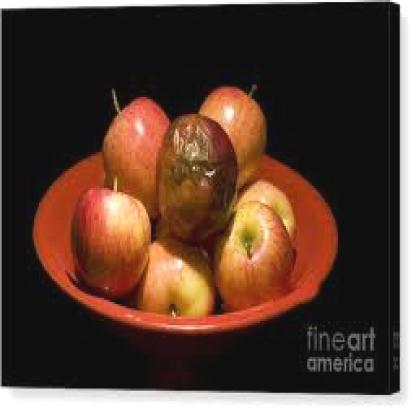apple: (72, 192, 152, 302), (208, 202, 296, 298), (206, 82, 272, 176), (136, 241, 214, 319), (102, 104, 170, 190)
damaged_apple: (154, 114, 238, 245)
